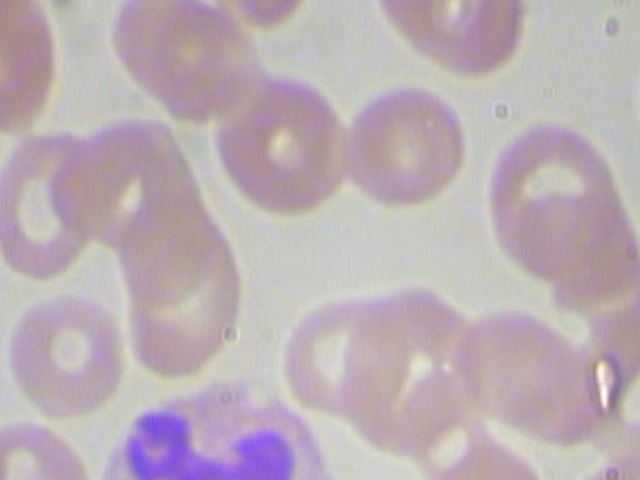RBC: (478, 109, 627, 275), (116, 204, 251, 381), (213, 72, 354, 221), (275, 285, 421, 424), (338, 69, 480, 211), (0, 282, 132, 428), (0, 116, 108, 285), (362, 0, 533, 93), (0, 0, 62, 138), (0, 418, 96, 480), (426, 439, 556, 480), (189, 0, 327, 29)
WBC: (86, 372, 352, 480)
